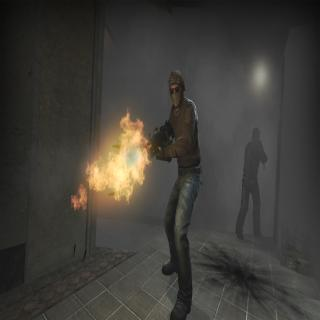T-Body: (148, 70, 200, 320), (235, 125, 264, 239)
T-Head: (168, 68, 184, 108), (250, 126, 262, 144)
